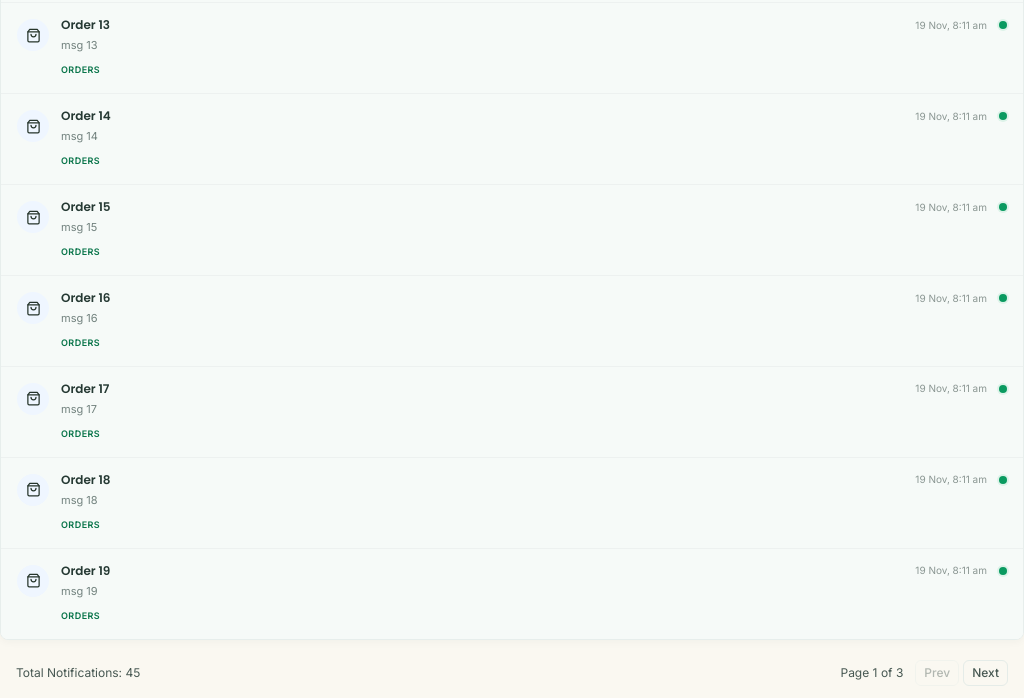
Test case: Customer Notification Centre › changing category resets pagination to page 1
(page scrolled)
What coordinates should you click on to do the following:
click the button "Next"
I would click on:
 (986, 672)
Its box is [963,660,1008,686].
(page scrolled)
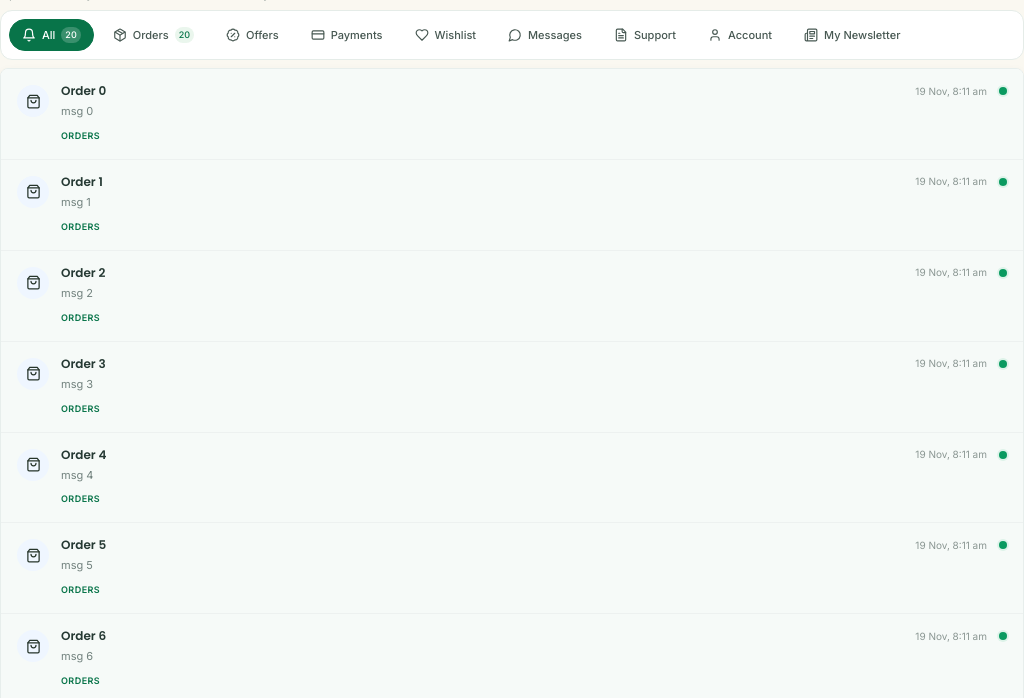
What coordinates should you click on to do the following:
click the button "Offers"
I would click on:
 (252, 35)
Its box is [213,19,292,51].
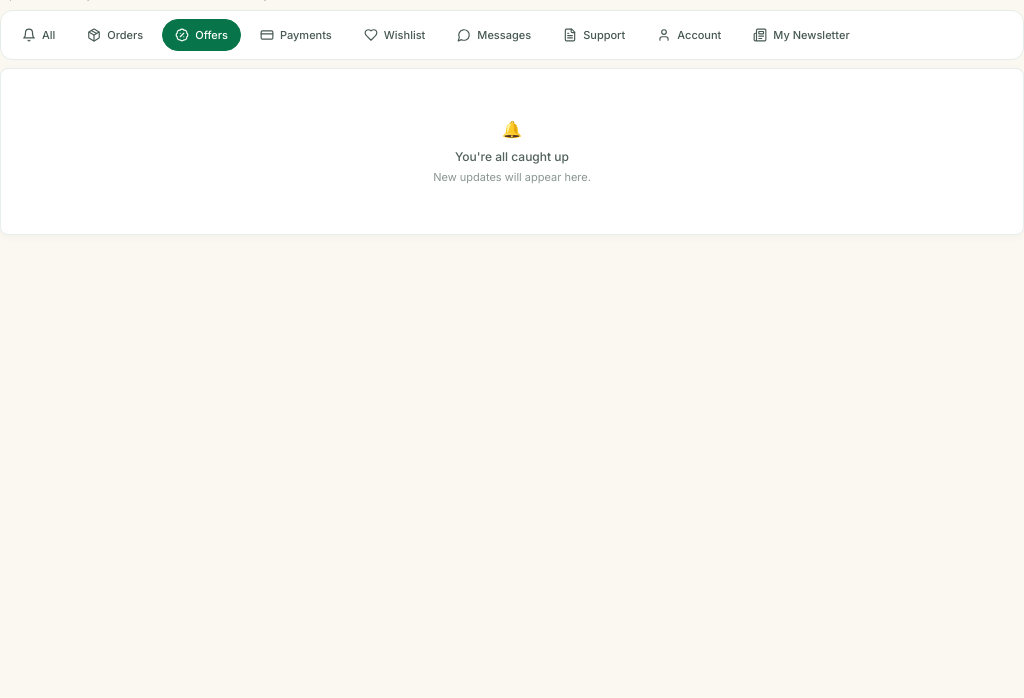
Result: the heading "Order 0" is gone
